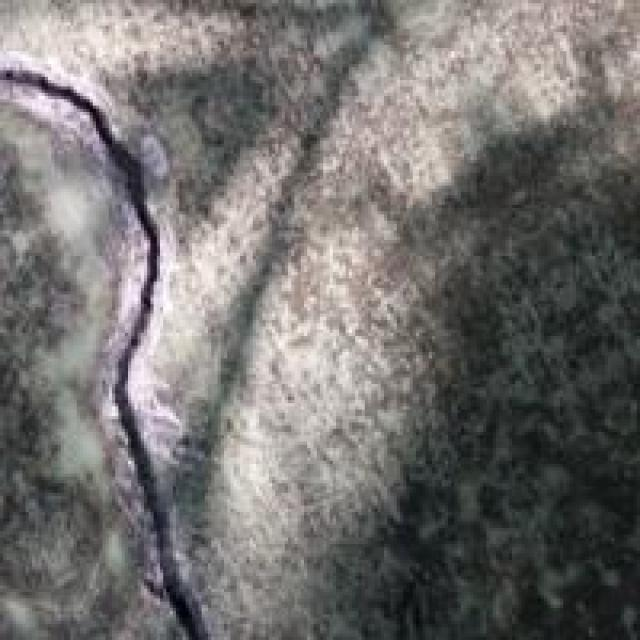crack: (3, 45, 246, 637)
